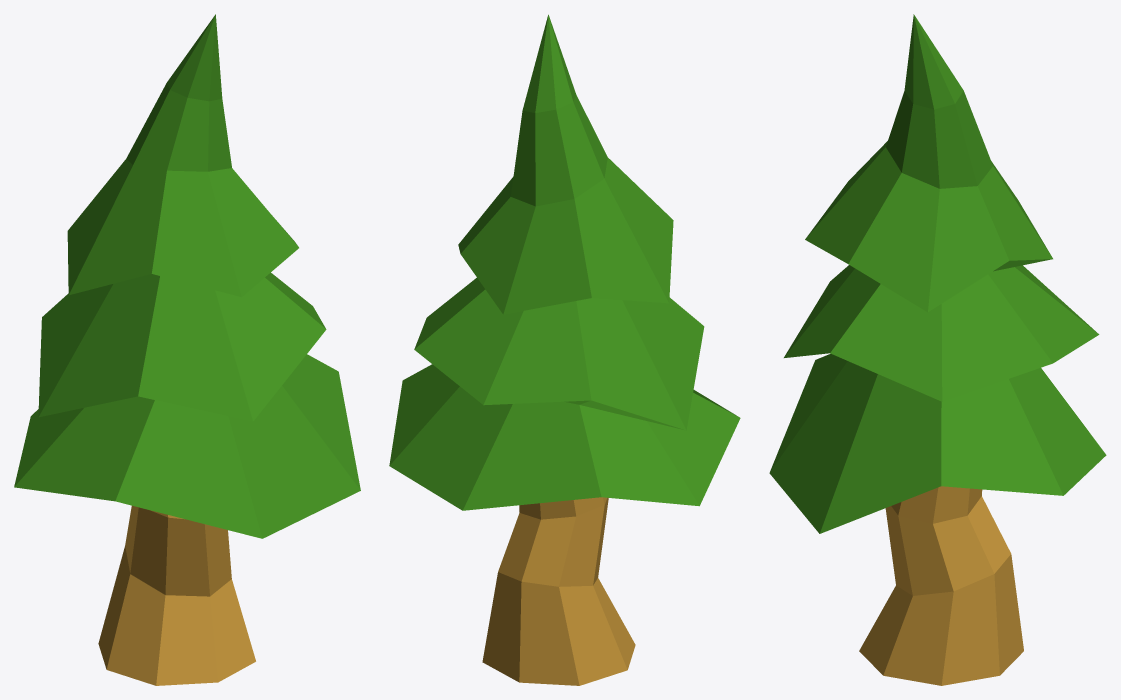
The model's file is Tree.fbx.
3 views of the same model, side by side, from view 1: azimuth 30°, elevation 25°; view 2: azimuth 150°, elevation 25°; view 3: azimuth 270°, elevation 25° (orthographic). The views are drawn at different scales.
Visible parts, largest first — view 1: Circle.001; view 2: Circle.001; view 3: Circle.001.
Part boxes in pixels (left/top/right/bottom): Circle.001: left=14, top=14, right=360, bottom=685; Circle.001: left=389, top=14, right=740, bottom=685; Circle.001: left=769, top=14, right=1106, bottom=685.
Size of the model in its own units: 635 by 1237 by 582.
